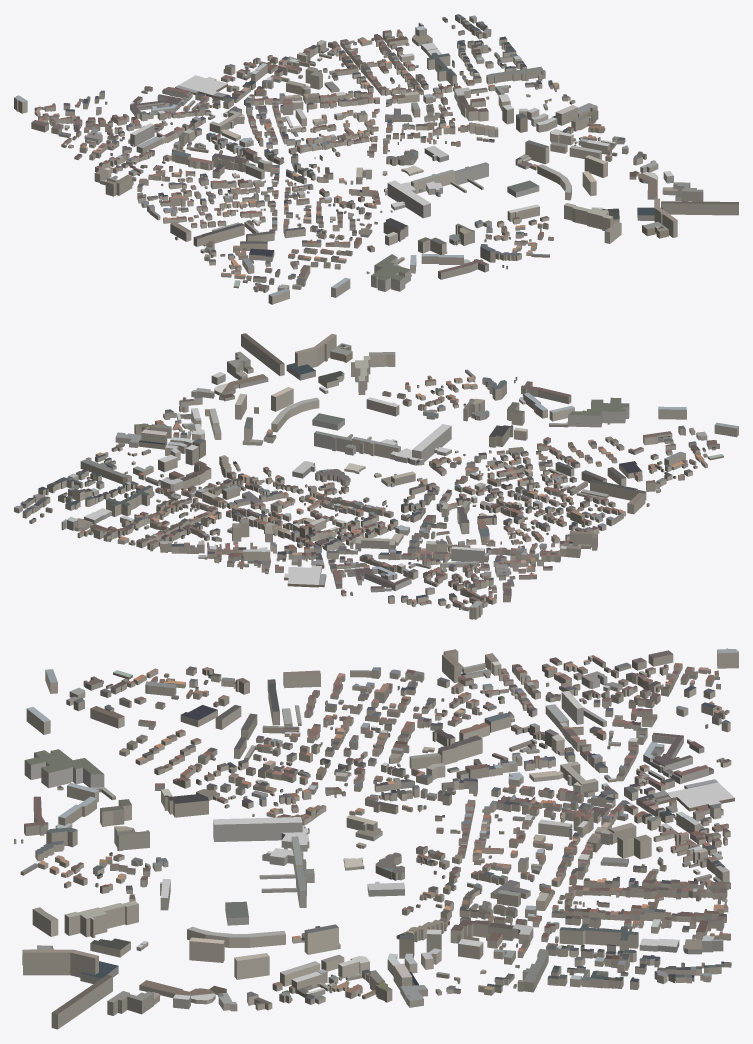
3 renders of one model, top to bottom at view 1: azimuth 30°, elevation 25°; view 2: azimuth 150°, elevation 25°; view 3: azimuth 270°, elevation 25°, orthographic. The views are drawn at different scales.
Parts seen in each view (by area): view 1: tuile; view 2: tuile; view 3: tuile.
Boxes of the visible parts, x1=… form: tuile: x1=14, y1=14, x2=738, y2=304; tuile: x1=14, y1=333, x2=738, y2=619; tuile: x1=14, y1=648, x2=738, y2=1029.
Bounding box in the file's own units: 1068 × 102 × 1015.
